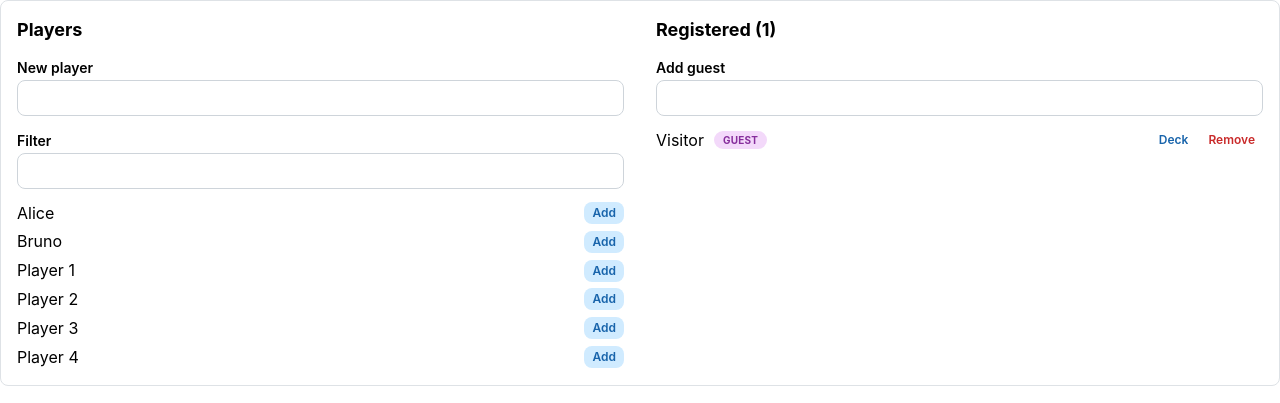
Test: RegistrationPanel in setup › removes a guest, who disappears
Check: the text "Guest" is shown, box [723,132,758,148]
Click the button with aria-label "Remove Visitor".
click(1232, 140)  # box [1200,129,1263,151]
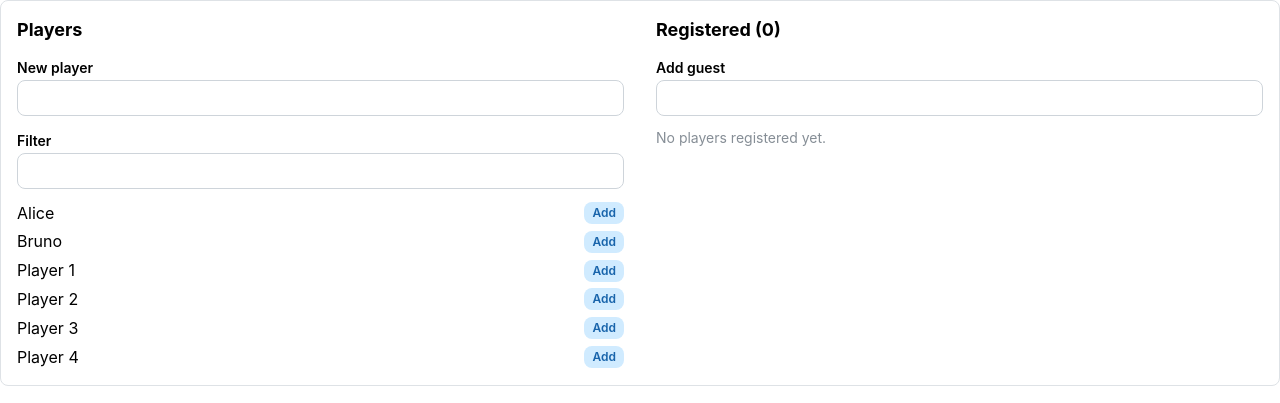
Check: the text "Visitor" is gone
